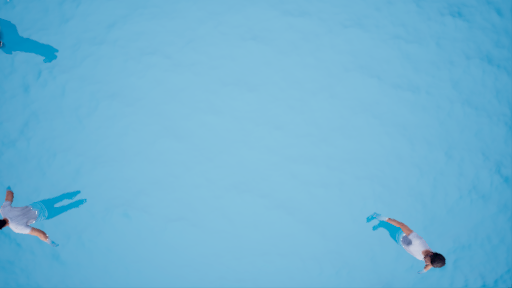person: (345, 208, 454, 270), (1, 182, 88, 253)
